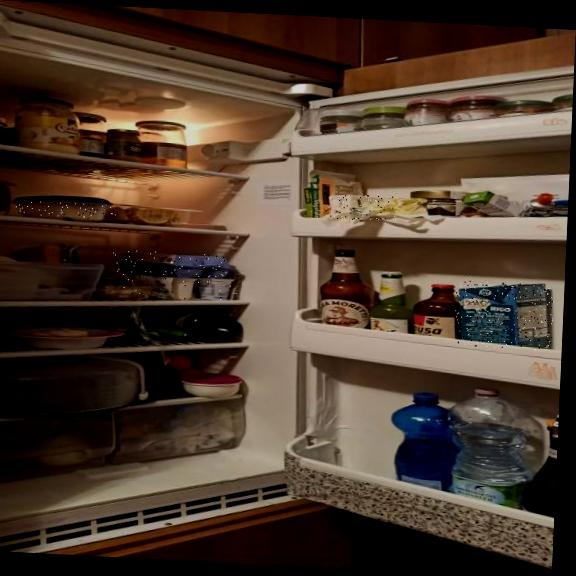butter: (325, 193, 397, 222)
cheese: (14, 200, 117, 222)
eggs: (112, 249, 229, 279)
milk: (454, 280, 555, 351)
yoghurt: (121, 270, 240, 302)
